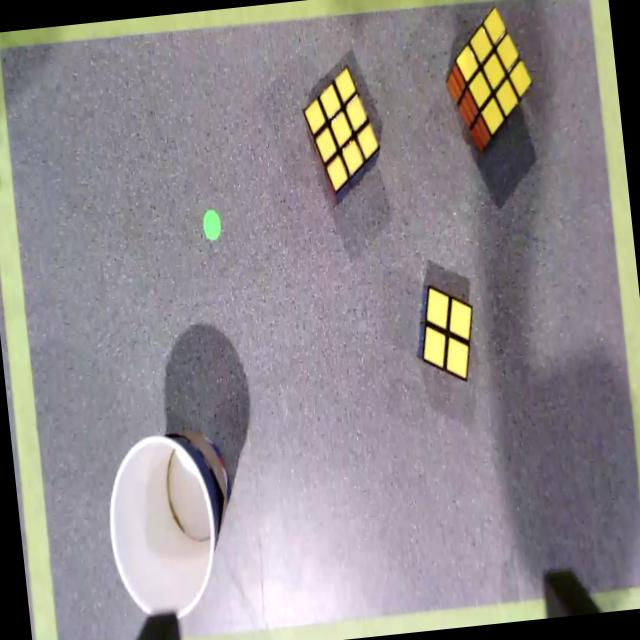cube2-yellow: (424, 288, 471, 378)
cube3-yellow: (455, 6, 532, 136), (303, 66, 379, 190)
